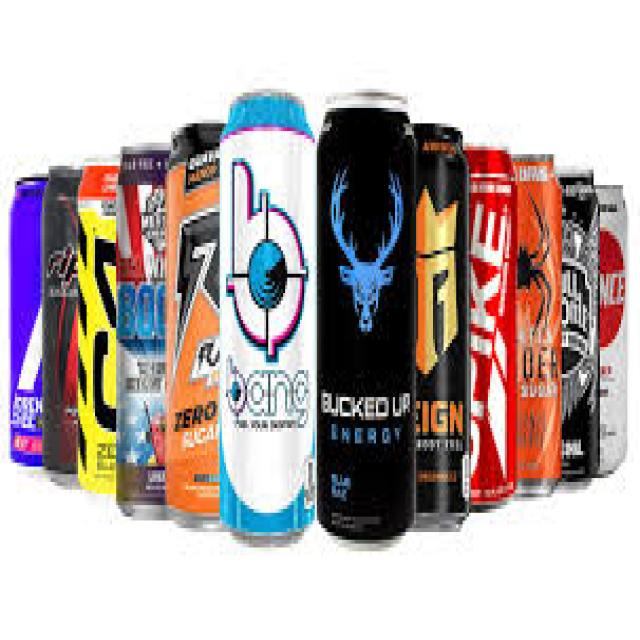Cans: (216, 85, 321, 547), (319, 89, 416, 551), (163, 120, 226, 532), (412, 120, 469, 540), (116, 139, 169, 520), (469, 131, 520, 517), (513, 150, 564, 509), (72, 150, 122, 502), (555, 162, 602, 493), (40, 158, 78, 486), (594, 178, 632, 474), (6, 170, 44, 466)
